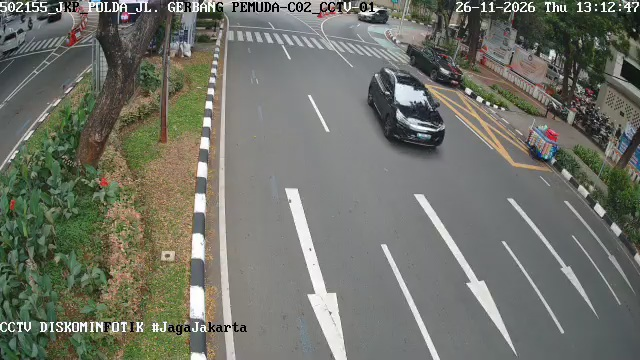Gerobak: (525, 123, 560, 163)
